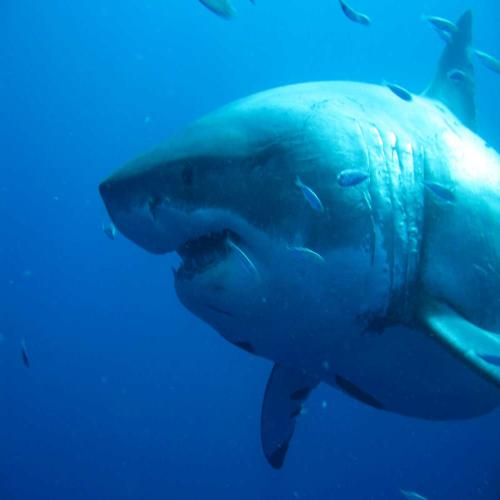shark-endangered: (94, 52, 500, 449)
